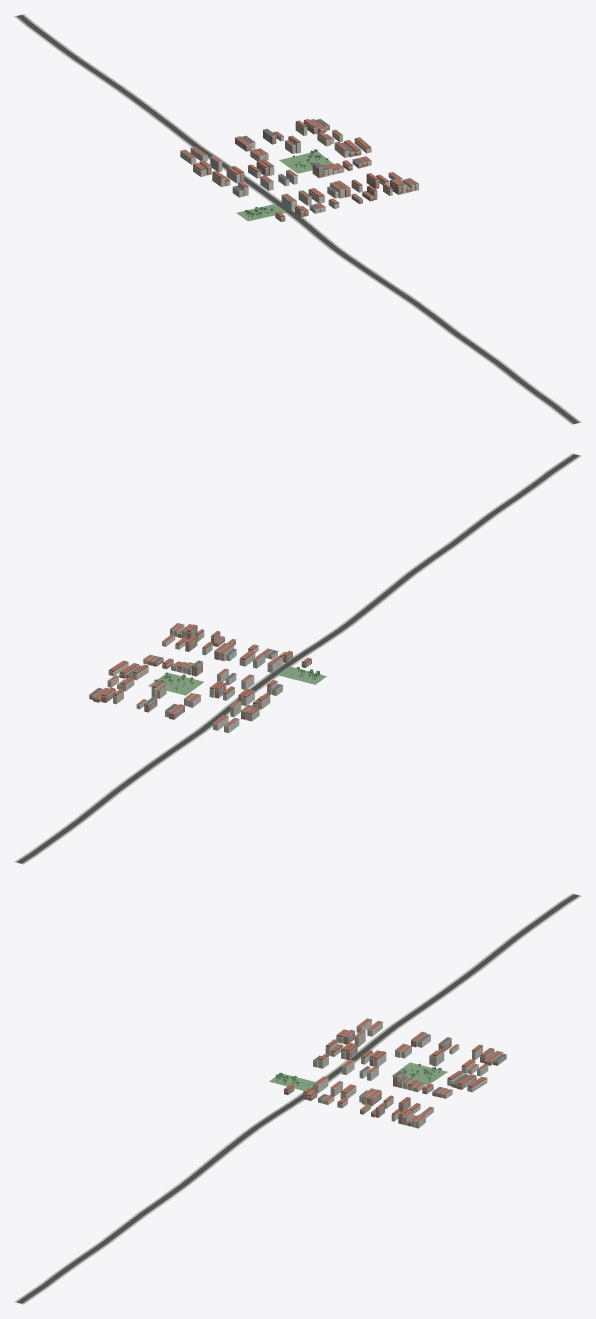
3 renders of one model, top to bottom at view 1: azimuth 30°, elevation 25°; view 2: azimuth 150°, elevation 25°; view 3: azimuth 330°, elevation 25°, orthographic.
Parts seen in each view (by area): view 1: road-v-1-mesh-1, road-v-1-mesh-0, neighborhood-park-block-087-mesh-7; view 2: road-v-1-mesh-1, road-v-1-mesh-0, neighborhood-park-block-087-mesh-7; view 3: road-v-1-mesh-1, road-v-1-mesh-0, neighborhood-park-block-087-mesh-7.
Boxes of the visible parts, <box> form: road-v-1-mesh-1: <box>17,15,579,423</box>; road-v-1-mesh-0: <box>14,14,581,424</box>; neighborhood-park-block-087-mesh-7: <box>279,151,333,173</box>; road-v-1-mesh-1: <box>17,454,579,863</box>; road-v-1-mesh-0: <box>14,453,581,864</box>; neighborhood-park-block-087-mesh-7: <box>148,673,203,695</box>; road-v-1-mesh-1: <box>17,894,578,1303</box>; road-v-1-mesh-0: <box>14,893,581,1304</box>; neighborhood-park-block-087-mesh-7: <box>392,1062,447,1084</box>.
Size of the model in its own units: 274 by 17.98 by 1605.
